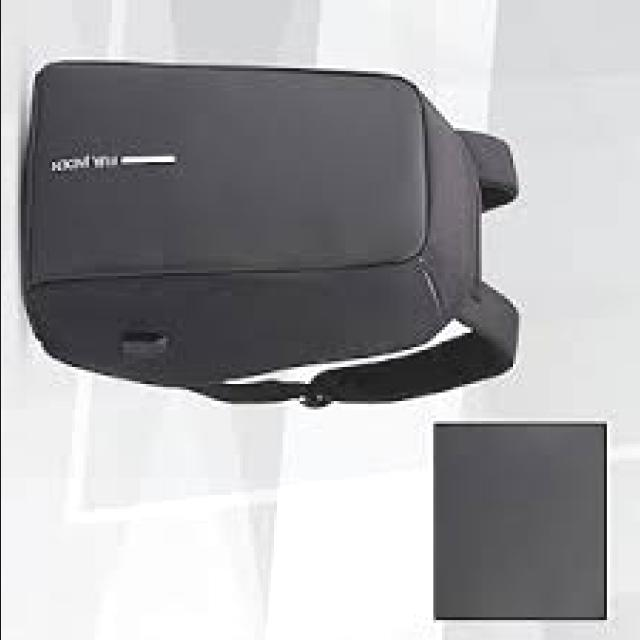backpack: (24, 58, 524, 408)
